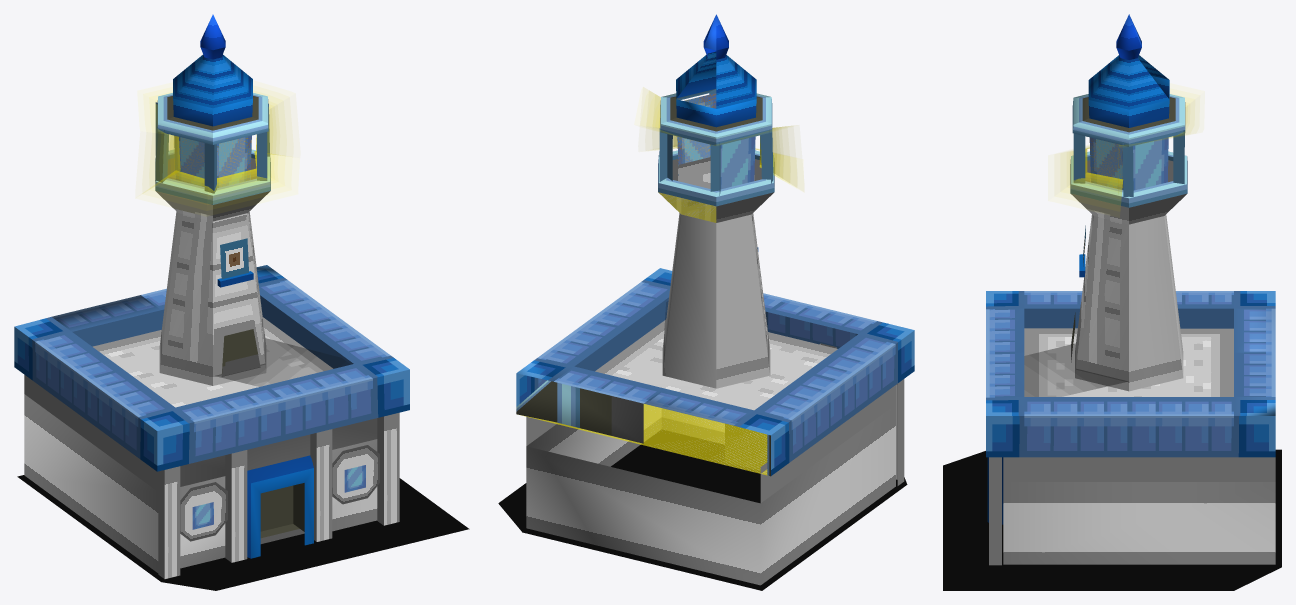
Rendered from Glitter Lighthouse.glb.
3 renders of one model, left to right at view 1: azimuth 30°, elevation 25°; view 2: azimuth 150°, elevation 25°; view 3: azimuth 270°, elevation 25°, orthographic.
Parts seen in each view (by area): view 1: Glitter Lighthouse, Glitter Lighthouse.Shine; view 2: Glitter Lighthouse, Glitter Lighthouse.Shine; view 3: Glitter Lighthouse, Glitter Lighthouse.Shine.
Boxes of the visible parts, x1,y1,x2,y2 form: Glitter Lighthouse: (14,14,469,590); Glitter Lighthouse.Shine: (142,90,291,204); Glitter Lighthouse: (498,14,914,590); Glitter Lighthouse.Shine: (640,91,797,187); Glitter Lighthouse: (943,14,1281,590); Glitter Lighthouse.Shine: (1060,93,1194,205).
Bounding box in the file's own units: 130 × 209 × 129.
Materials: 6 (6 with a texture image).
